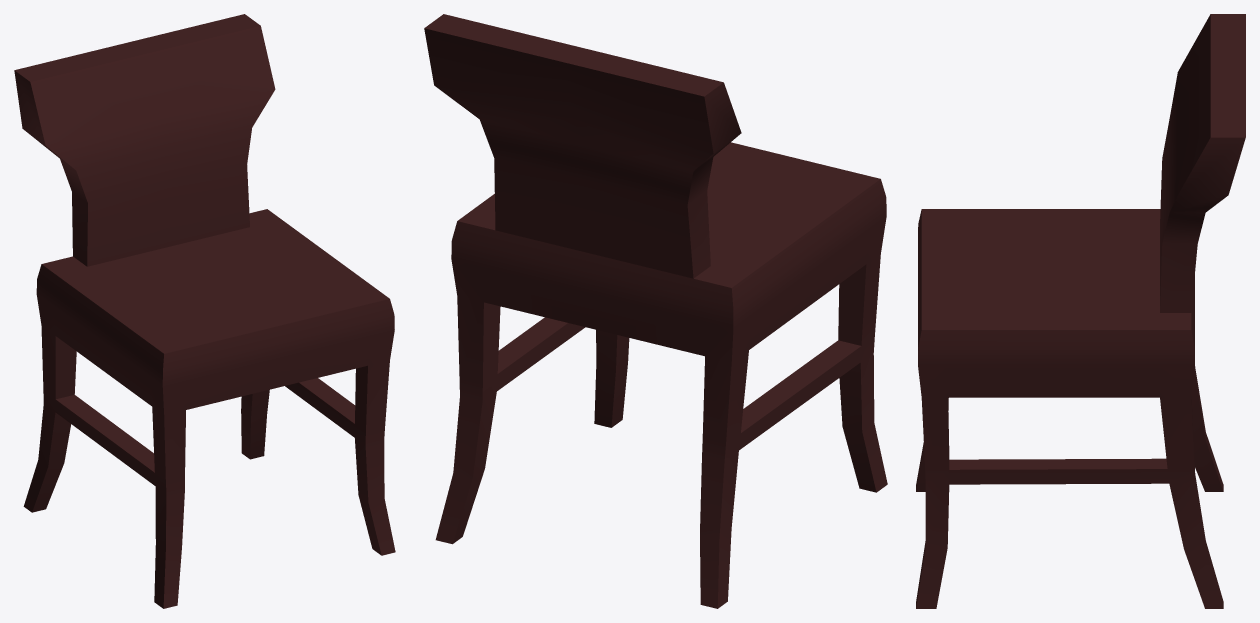
Rendered from SM_Chair.fbx.
3 views of the same model, side by side, from view 1: azimuth 30°, elevation 25°; view 2: azimuth 150°, elevation 25°; view 3: azimuth 270°, elevation 25° (orthographic). The views are drawn at different scales.
Visible parts, largest first — view 1: SM_Chair; view 2: SM_Chair; view 3: SM_Chair.
Part boxes in pixels (x1,y1,x2,y2): SM_Chair: (14,14,395,608); SM_Chair: (424,14,887,608); SM_Chair: (916,14,1245,608).
Size of the model in its own units: 0.9345 by 1.65 by 1.05.
